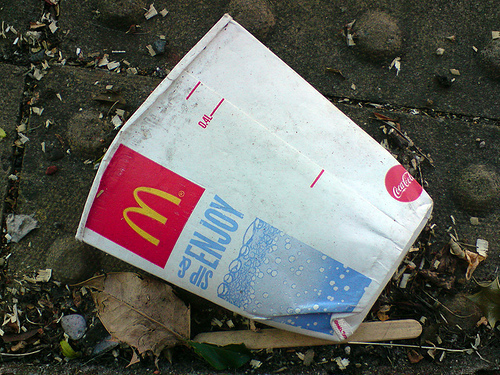litter: (76, 13, 433, 342)
